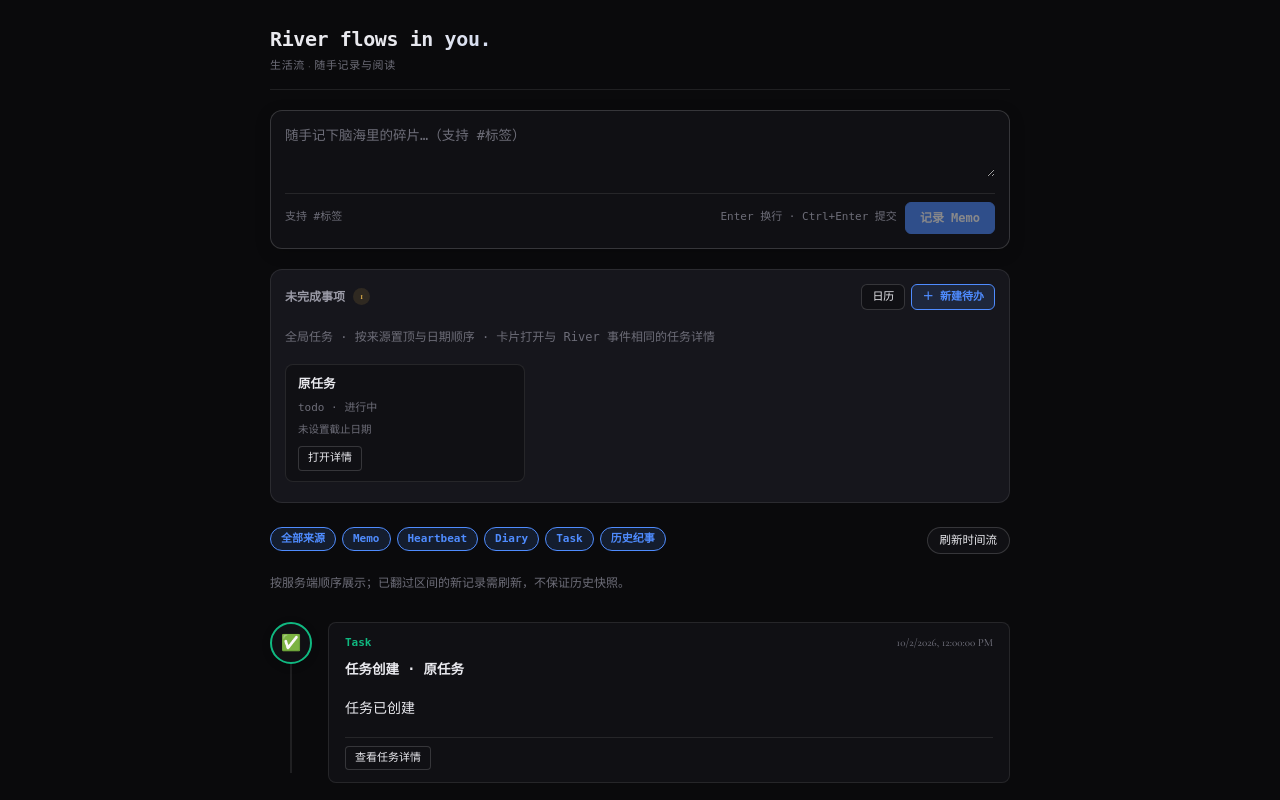
Test: CP3 task creation and editing › edits through the native form without ever sending entry_type or readonly state
Click the button "打开详情" at (330, 458), box [298, 446, 362, 470]
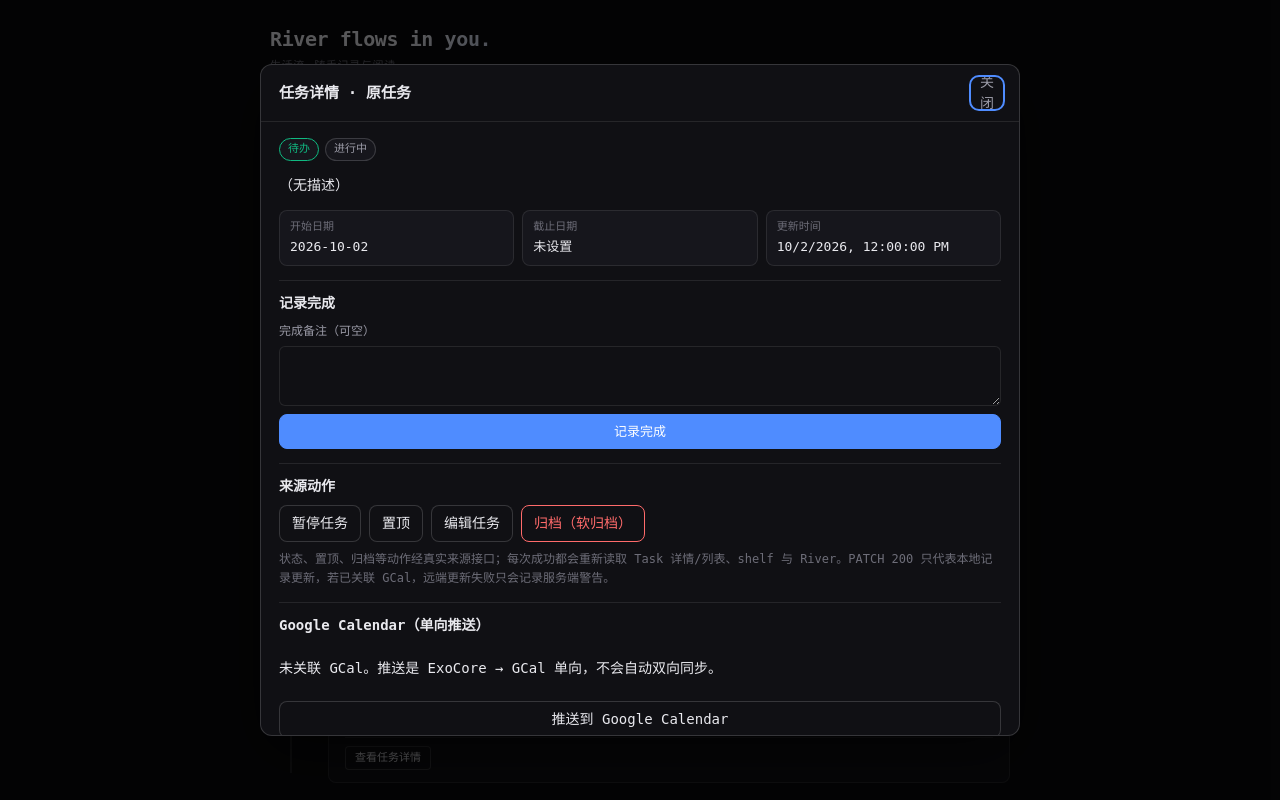
Click the button "编辑任务" at (472, 524), box [431, 505, 513, 542]
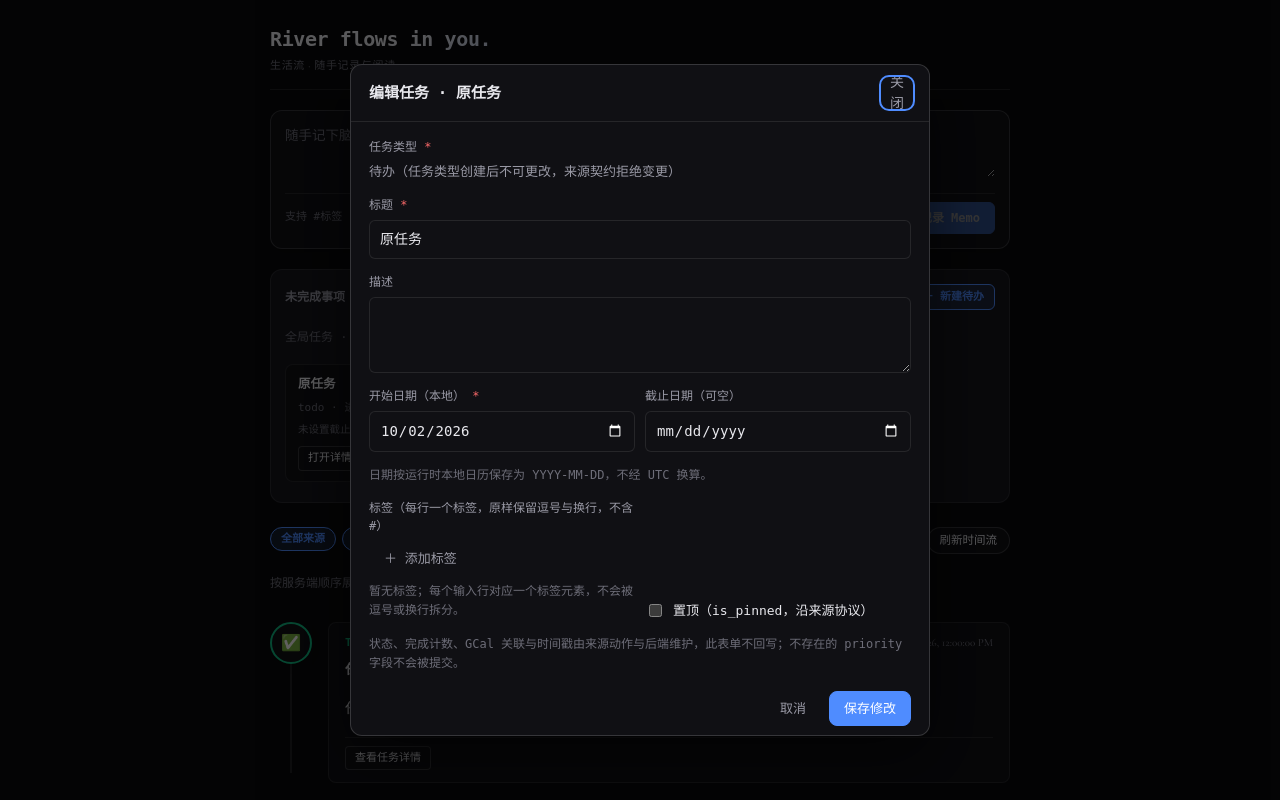
Result: the text "待办（任务类型创建后不可更改，来源契约拒绝变更）" is shown at [369, 164, 681, 179]
Replace the text in the field labelled "标题 *" with "改后标题" at (640, 239), box [369, 220, 911, 258]
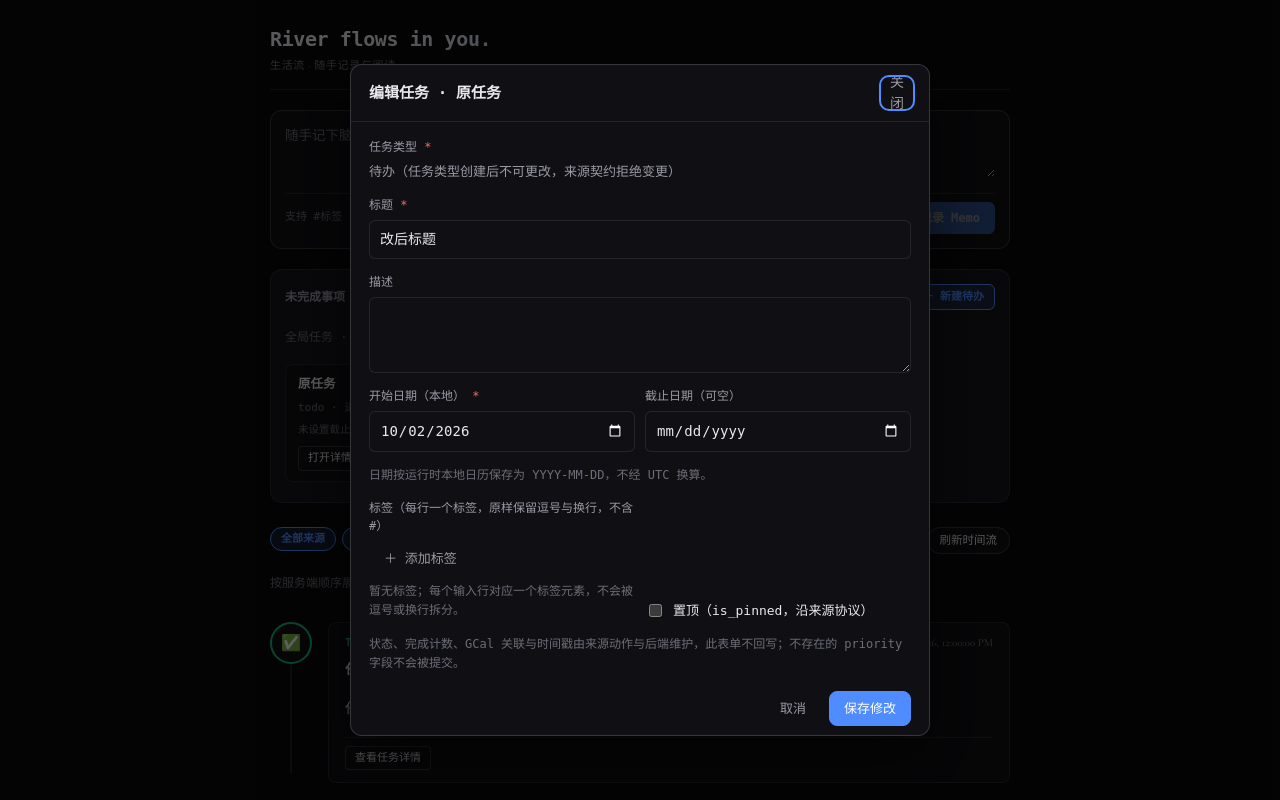
Click the button "保存修改" at (870, 709), box [829, 691, 911, 726]
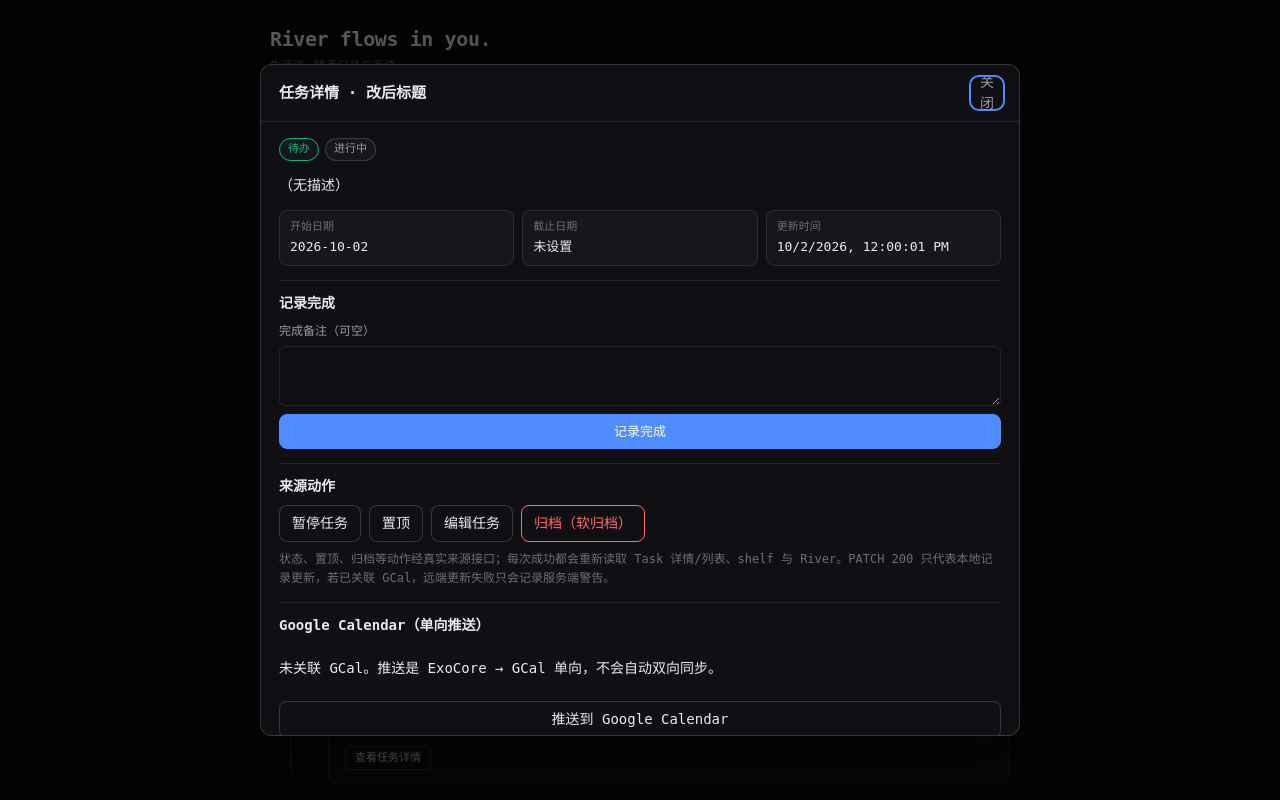
Result: the heading "任务详情 · 改后标题" is shown at [279, 82, 426, 104]
